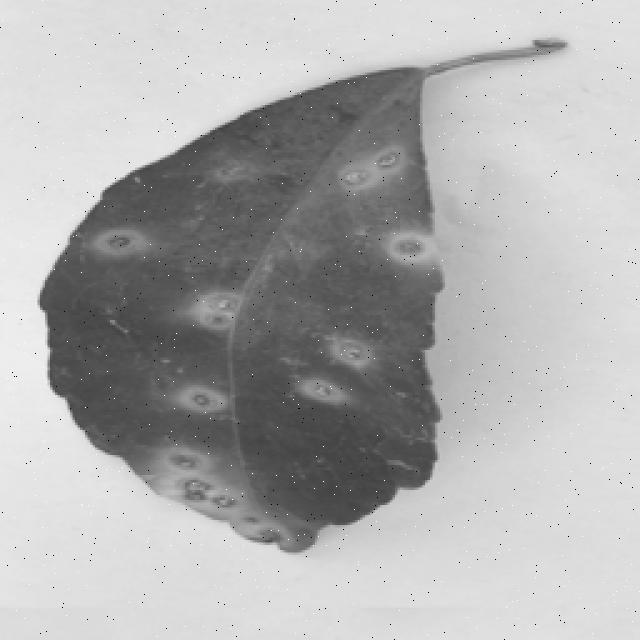canker: (54, 41, 516, 568)
